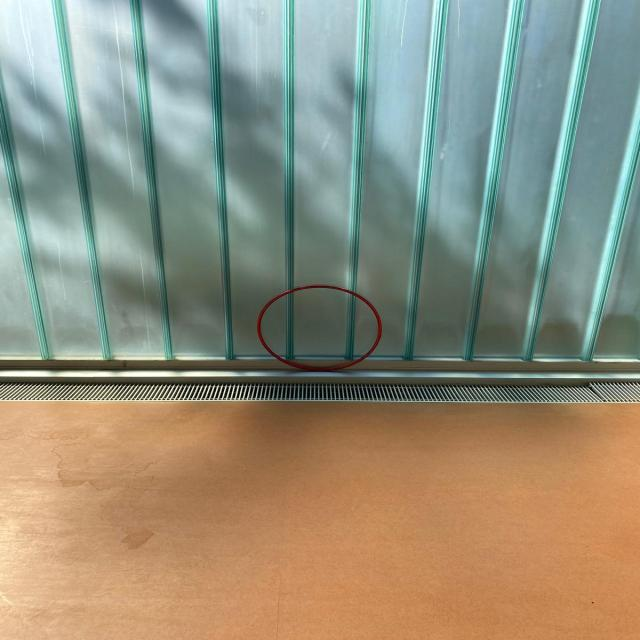Circle: (252, 284, 384, 372)
